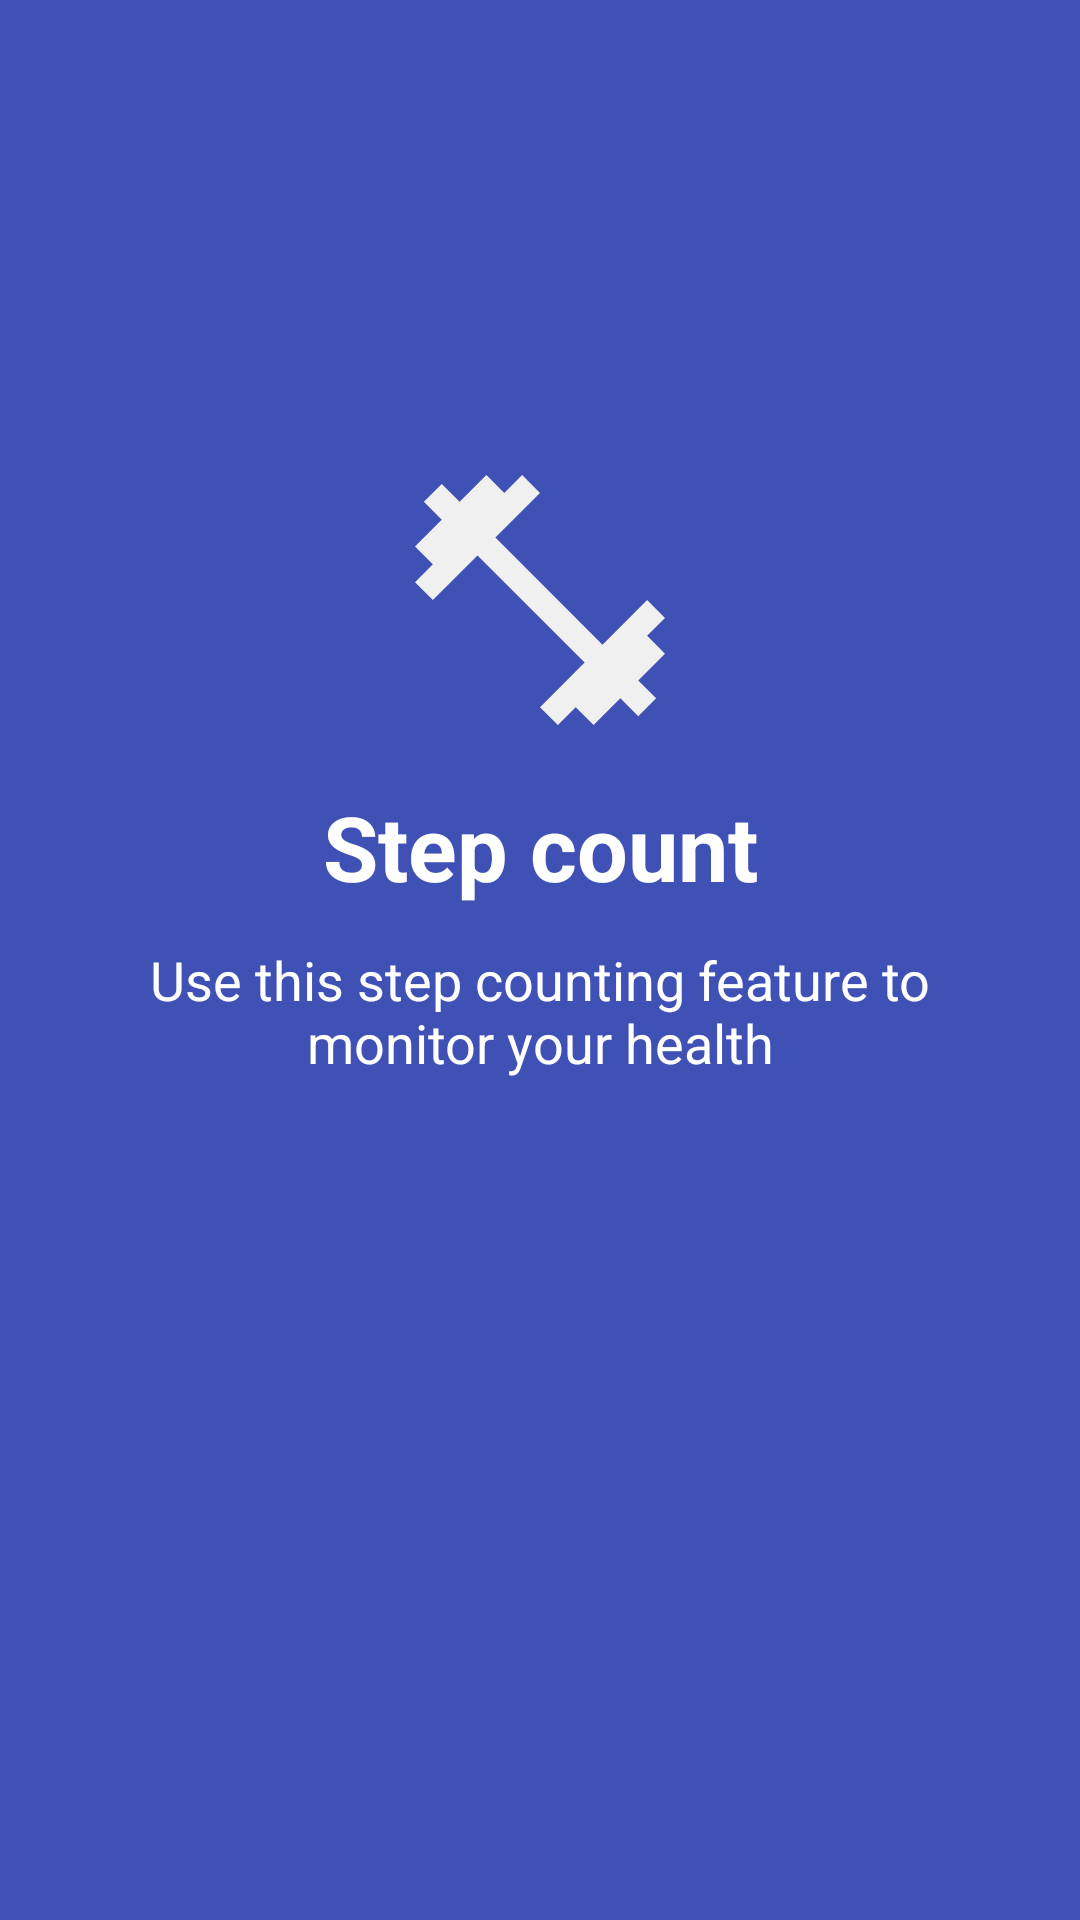

Icon bounding boxes for this 1080 × 1920 phone screenshot, format detection(x1, y1, x2, y2):
fitness center: detection(415, 475, 665, 725)
